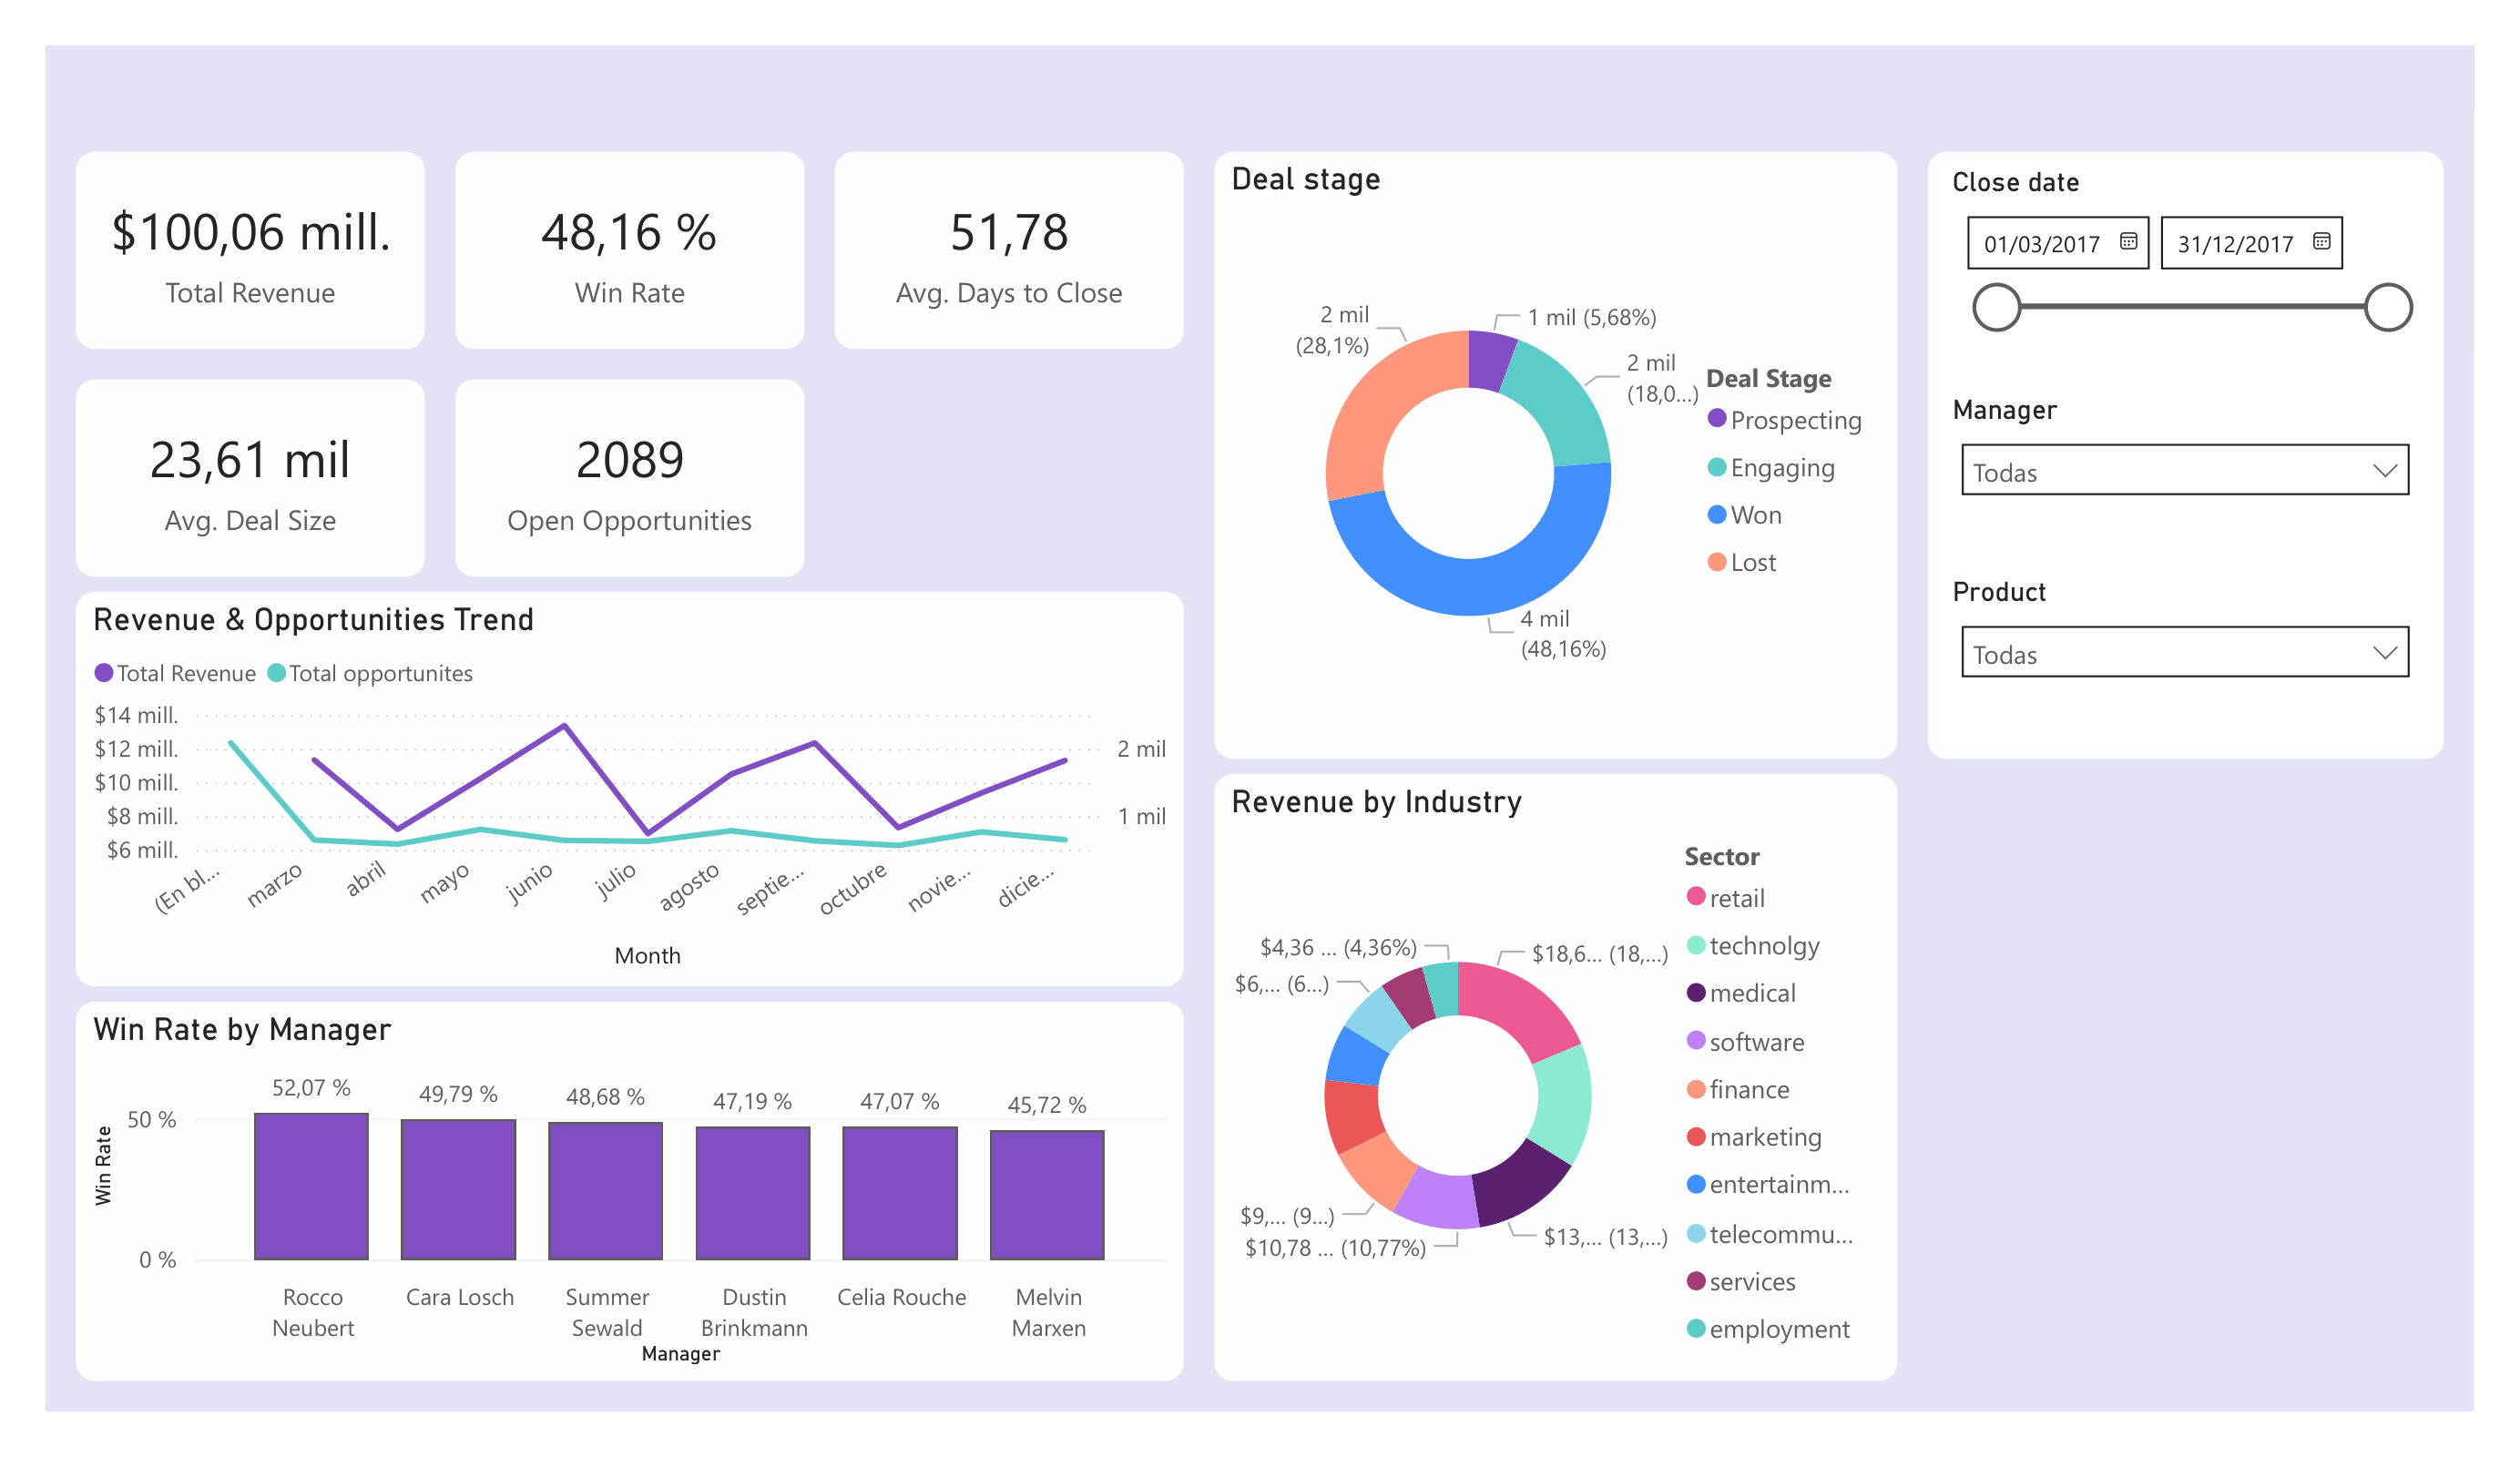

Layout of this report page (visuals, bound fields, positions):
{"tool":"powerbi","page":{"name":"Página 1","canvas":[1280,720],"ordinal":0},"visuals":[{"type":"card","fields":{"Values":["_Medidas.Total Revenue"]},"box":[16,56,184,104],"z":0,"group":"g1"},{"type":"clusteredColumnChart","title":"Win Rate by Manager","fields":{"Y":["_Medidas.% Tasa de Conversión"],"Category":["sales_teams.manager"]},"box":[16,504,584,200],"z":0},{"type":"group","id":"g1","title":"Grupo 1","box":[16,56,584,224],"z":1000},{"type":"group","id":"g2","title":"Grupo 2","box":[992,56,272,320],"z":2000},{"type":"card","fields":{"Values":["_Medidas.Tratos Abiertos"]},"box":[216,176,184,104],"z":2000,"group":"g1"},{"type":"card","fields":{"Values":["_Medidas.Average Deal Size"]},"box":[16,176,184,104],"z":3000,"group":"g1"},{"type":"lineChart","title":"Revenue & Opportunities Trend","fields":{"Category":["sales_pipeline.close_date.Variación.Jerarquía de fechas.Año","sales_pipeline.close_date.Variación.Jerarquía de fechas.Mes"],"Y":["_Medidas.Ventas Totales"],"Y2":["_Medidas.Total Oportunidades"]},"box":[16,288,584,208],"z":3000},{"type":"card","fields":{"Values":["_Medidas.Dias para Cerrar"]},"box":[416,56,184,104],"z":4000,"group":"g1"},{"type":"donutChart","title":"Deal stage","fields":{"Category":["dim_stages.deal_stage"],"Y":["_Medidas.Total Oportunidades"]},"box":[616,56,360,320],"z":4000},{"type":"donutChart","title":"Revenue by Industry","fields":{"Category":["accounts.sector"],"Y":["_Medidas.Ventas Totales"]},"box":[616,384,360,320],"z":4001},{"type":"card","fields":{"Values":["_Medidas.% Tasa de Conversión"]},"box":[216,56,184,104],"z":5000,"group":"g1"},{"type":"shape","box":[992,56,272,320],"z":5500,"group":"g2"},{"type":"slicer","title":"Manager","fields":{"Values":["sales_teams.manager"]},"box":[1000,184,256,72],"z":6500,"group":"g2"},{"type":"slicer","title":"Product","fields":{"Values":["products.product"]},"box":[1000,280,256,72],"z":7500,"group":"g2"},{"type":"slicer","title":"Close date","fields":{"Values":["sales_pipeline.close_date"]},"box":[1000,64,256,104],"z":8000,"group":"g2"}]}

Visuals, with their boxes on the page's 1280x720 design canvas (x1, y1, x2, y2). These are canvas units, not pixel positions in the 2520x1457 screenshot, which may show the page scaled, cropped or inside an application window:
card - _Medidas.Total Revenue: (left=16, top=56, right=200, bottom=160)
"Win Rate by Manager" clusteredColumnChart: (left=16, top=504, right=600, bottom=704)
"Grupo 1" group: (left=16, top=56, right=600, bottom=280)
"Grupo 2" group: (left=992, top=56, right=1264, bottom=376)
card - _Medidas.Tratos Abiertos: (left=216, top=176, right=400, bottom=280)
card - _Medidas.Average Deal Size: (left=16, top=176, right=200, bottom=280)
"Revenue & Opportunities Trend" lineChart: (left=16, top=288, right=600, bottom=496)
card - _Medidas.Dias para Cerrar: (left=416, top=56, right=600, bottom=160)
"Deal stage" donutChart: (left=616, top=56, right=976, bottom=376)
"Revenue by Industry" donutChart: (left=616, top=384, right=976, bottom=704)
card - _Medidas.% Tasa de Conversión: (left=216, top=56, right=400, bottom=160)
shape: (left=992, top=56, right=1264, bottom=376)
"Manager" slicer: (left=1000, top=184, right=1256, bottom=256)
"Product" slicer: (left=1000, top=280, right=1256, bottom=352)
"Close date" slicer: (left=1000, top=64, right=1256, bottom=168)
